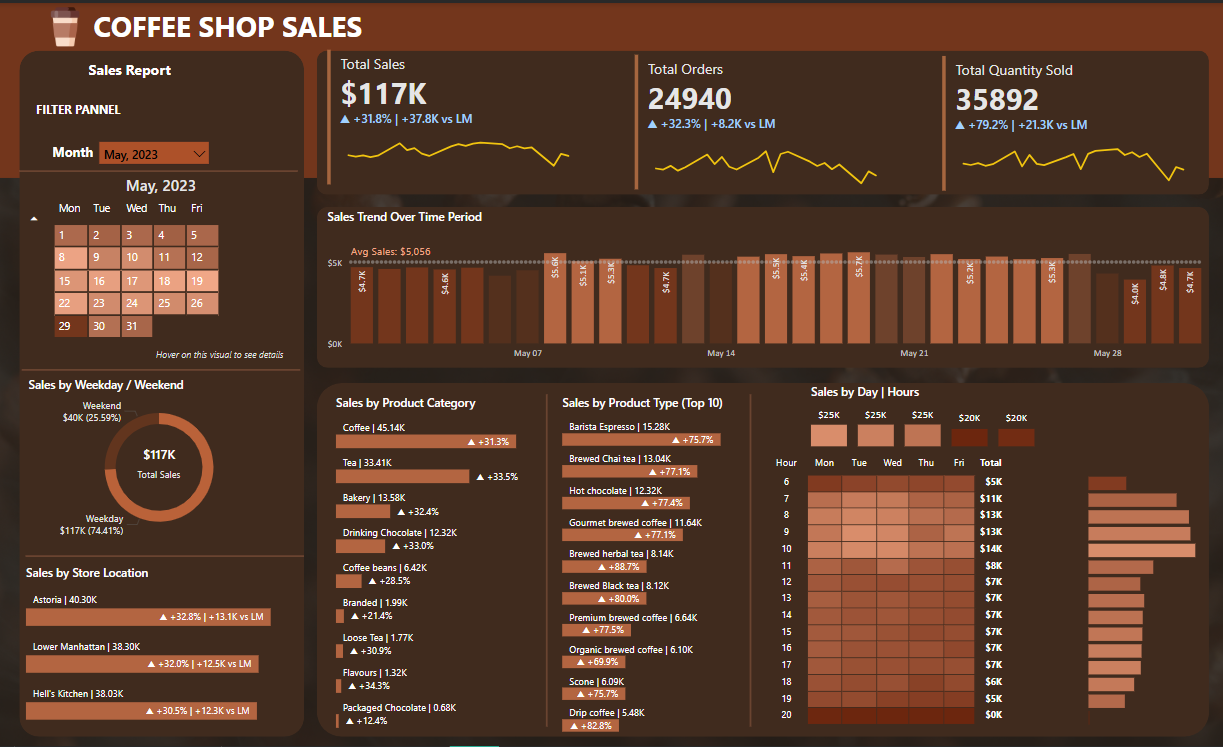

What the dashboard file says about the page in this screenshot:
{"tool":"powerbi","page":{"name":"Overview","canvas":[1400,850],"ordinal":0},"visuals":[{"type":"cardVisual","fields":{"Data":["Key Measures.Total Sales"]},"box":[371.6,48.6,300.1,164.3],"z":0,"group":"g1"},{"type":"cardVisual","fields":{"Data":["Key Measures.Total Orders"]},"box":[723.1,54.3,300.1,164.3],"z":0,"group":"g2"},{"type":"cardVisual","fields":{"Data":["Key Measures.Total Quantity Sold"]},"box":[1074.7,55.7,300.1,164.3],"z":0,"group":"g3"},{"type":"shape","box":[364.4,434.4,1020.3,404.4],"z":0},{"type":"shape","box":[0,0,1400.5,200.1],"z":1000},{"type":"lineChart","fields":{"Category":["Date Table.Date.Variation.Date Hierarchy.Year","Date Table.Date.Variation.Date Hierarchy.Quarter","Date Table.Date.Variation.Date Hierarchy.Month","Date Table.Date.Variation.Date Hierarchy.Day"],"Y":["Key Measures.Total Sales"]},"box":[385.9,122.9,281.5,84.3],"z":1000,"group":"g1"},{"type":"lineChart","fields":{"Category":["Date Table.Date.Variation.Date Hierarchy.Year","Date Table.Date.Variation.Date Hierarchy.Quarter","Date Table.Date.Variation.Date Hierarchy.Month","Date Table.Date.Variation.Date Hierarchy.Day"],"Y":["Key Measures.Total Orders"]},"box":[737.4,128.6,281.5,84.3],"z":1000,"group":"g2"},{"type":"lineChart","fields":{"Category":["Date Table.Date.Variation.Date Hierarchy.Year","Date Table.Date.Variation.Date Hierarchy.Quarter","Date Table.Date.Variation.Date Hierarchy.Month","Date Table.Date.Variation.Date Hierarchy.Day"],"Y":["Key Measures.Total Quantity Sold"]},"box":[1089,130,281.5,84.3],"z":1000,"group":"g3"},{"type":"shape","box":[24.3,54.3,325.8,784.6],"z":2000},{"type":"shape","box":[364.4,54.3,1020,165],"z":3000},{"type":"textbox","box":[104.3,0,328.7,54.3],"z":4000},{"type":"slicer","fields":{"Values":["Date Table.Month Year"]},"box":[110,152.9,137.2,34.3],"z":5000},{"type":"group","id":"g1","title":"Group 1","box":[371.6,48.6,300.1,164.3],"z":6000},{"type":"group","id":"g2","title":"Group 1","box":[723.1,54.3,300.1,164.3],"z":7000},{"type":"group","id":"g3","title":"Group 1","box":[1074.7,55.7,300.1,164.3],"z":8000},{"type":"pivotTable","fields":{"Rows":["Date Table.Week Number"],"Columns":["Date Table.Day Name"],"Values":["Min(Date Table.Day Number)"]},"box":[27.2,218.6,318.7,185.8],"z":9000},{"type":"card","fields":{"Values":["Min(Date Table.Month Year)"]},"box":[125.8,190.1,121.5,40],"z":10000},{"type":"card","fields":{"Values":["Key Measures.Foot Note"]},"box":[158.6,388.7,187.2,31.4],"z":11000},{"type":"shape","box":[27.2,404.4,318.7,30],"z":12000},{"type":"shape","box":[24.3,177.2,318.7,30],"z":13000},{"type":"donutChart","title":"Sales by Weekday / Weekend","fields":{"Category":["Date Table.Weekday / Weekend"],"Y":["Key Measures.Total Sales"]},"box":[30,427.3,308.7,190.1],"z":14000},{"type":"card","fields":{"Values":["Key Measures.Total Sales"]},"box":[144.3,501.6,80,47.2],"z":15000},{"type":"shape","box":[31.4,617.4,318.7,30],"z":16000},{"type":"clusteredBarChart","title":"Sales by Store Location","fields":{"Y":["Key Measures.Place holder","Key Measures.Total Sales"],"Category":["Transactions.store_location"]},"box":[27.2,641.6,318.7,185.8],"z":17000},{"type":"shape","box":[364.4,232.9,1020.3,184.3],"z":18000},{"type":"columnChart","title":"Sales Trend Over Time Period","fields":{"Category":["Transactions.transaction_date"],"Y":["Key Measures.Total Sales"]},"box":[371.6,234.4,1013.2,182.9],"z":19000},{"type":"clusteredBarChart","title":"Sales by Product Category","fields":{"Y":["Key Measures.Place holder","Key Measures.Total Sales"],"Category":["Transactions.product_category"]},"box":[381.6,447.3,245.8,387.3],"z":20000},{"type":"shape","box":[614.5,447.3,25.7,380.1],"z":21000},{"type":"clusteredBarChart","title":"Sales by Product Type (Top 10)","fields":{"Y":["Key Measures.Place holder","Key Measures.Total Sales"],"Category":["Transactions.product_type"]},"box":[640.2,447.3,220.1,391.6],"z":22000},{"type":"shape","box":[847.4,447.3,25.7,380.1],"z":23000},{"type":"pivotTable","fields":{"Rows":["Transactions.Hour"],"Values":["Key Measures.Total Sales"],"Columns":["Date Table.Day Name"]},"box":[873.2,513,368.7,321.5],"z":24000},{"type":"barChart","fields":{"Category":["Transactions.Hour"],"Y":["Key Measures.Total Sales"]},"box":[1241.9,528.8,142.9,301.5],"z":25000},{"type":"columnChart","title":"Sales by Day | Hours","fields":{"Y":["Key Measures.Total Sales"],"Category":["Date Table.Day Name"]},"box":[924.6,434.4,267.2,78.6],"z":26000},{"type":"textbox","box":[57.2,155.8,62.9,30],"z":26001},{"type":"textbox","box":[38.6,107.2,121.5,37.2],"z":26002},{"type":"textbox","box":[98.6,60,121.5,37.2],"z":26003},{"type":"image","box":[40,0,72.9,54.3],"z":26004}]}

Visuals, with their boxes in screenshot pixels (x1, y1, x2, y2), scaled from the page's 1400x850 canvas onto the 1223x747 screenshot:
cardVisual - Key Measures.Total Sales: l=325, t=43, r=587, b=187
cardVisual - Key Measures.Total Orders: l=632, t=48, r=894, b=192
cardVisual - Key Measures.Total Quantity Sold: l=939, t=49, r=1201, b=193
shape: l=318, t=382, r=1210, b=737
shape: l=0, t=0, r=1222, b=176
lineChart - Date Table.Date.Variation.Date Hierarchy.Year x Date Table.Date.Variation.Date Hierarchy.Quarter: l=337, t=108, r=583, b=182
lineChart - Date Table.Date.Variation.Date Hierarchy.Year x Date Table.Date.Variation.Date Hierarchy.Quarter: l=644, t=113, r=890, b=187
lineChart - Date Table.Date.Variation.Date Hierarchy.Year x Date Table.Date.Variation.Date Hierarchy.Quarter: l=951, t=114, r=1197, b=188
shape: l=21, t=48, r=306, b=737
shape: l=318, t=48, r=1209, b=193
textbox: l=91, t=0, r=378, b=48
slicer - Date Table.Month Year: l=96, t=134, r=216, b=165
"Group 1" group: l=325, t=43, r=587, b=187
"Group 1" group: l=632, t=48, r=894, b=192
"Group 1" group: l=939, t=49, r=1201, b=193
pivotTable - Date Table.Week Number x Date Table.Day Name: l=24, t=192, r=302, b=355
card - Min(Date Table.Month Year): l=110, t=167, r=216, b=202
card - Key Measures.Foot Note: l=139, t=342, r=302, b=369
shape: l=24, t=355, r=302, b=382
shape: l=21, t=156, r=300, b=182
"Sales by Weekday / Weekend" donutChart: l=26, t=376, r=296, b=543
card - Key Measures.Total Sales: l=126, t=441, r=196, b=482
shape: l=27, t=543, r=306, b=569
"Sales by Store Location" clusteredBarChart: l=24, t=564, r=302, b=727
shape: l=318, t=205, r=1210, b=367
"Sales Trend Over Time Period" columnChart: l=325, t=206, r=1210, b=367
"Sales by Product Category" clusteredBarChart: l=333, t=393, r=548, b=733
shape: l=537, t=393, r=559, b=727
"Sales by Product Type (Top 10)" clusteredBarChart: l=559, t=393, r=752, b=737
shape: l=740, t=393, r=763, b=727
pivotTable - Transactions.Hour x Key Measures.Total Sales: l=763, t=451, r=1085, b=733
barChart - Transactions.Hour x Key Measures.Total Sales: l=1085, t=465, r=1210, b=730
"Sales by Day | Hours" columnChart: l=808, t=382, r=1041, b=451
textbox: l=50, t=137, r=105, b=163
textbox: l=34, t=94, r=140, b=127
textbox: l=86, t=53, r=192, b=85
image: l=35, t=0, r=99, b=48
